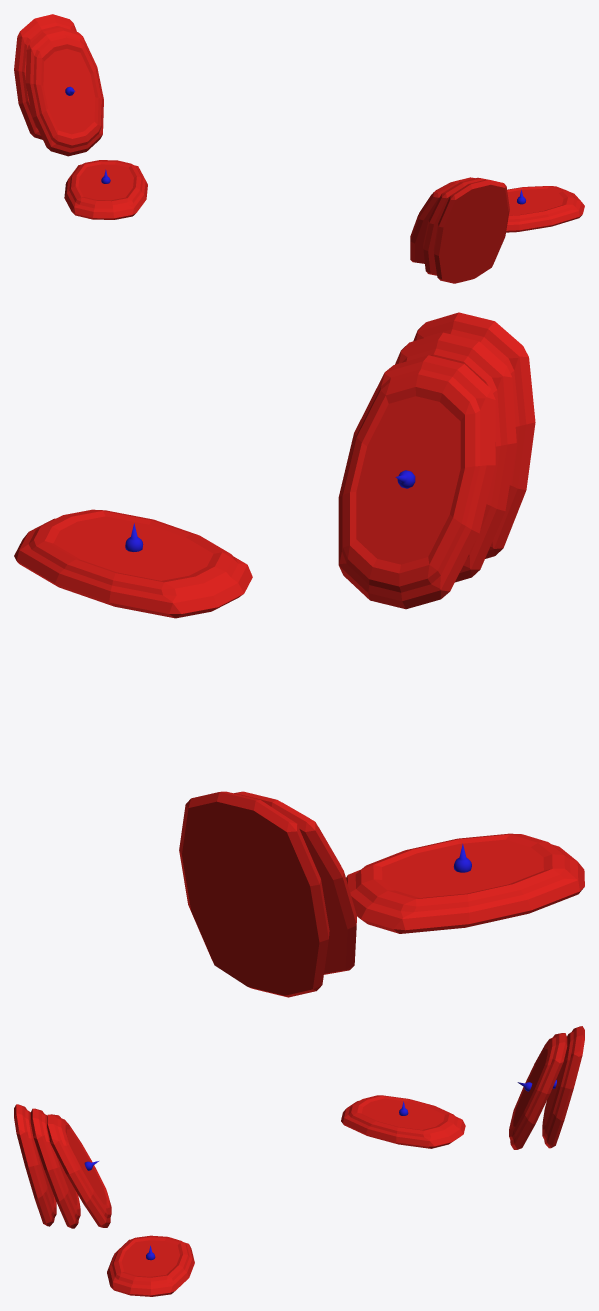
Rendered from Structure_Tower_Knight_Human_04_01_Shields.fbx.
3 views of the same model, one above another, from view 1: azimuth 30°, elevation 25°; view 2: azimuth 150°, elevation 25°; view 3: azimuth 270°, elevation 25° (orthographic). The views are drawn at different scales.
Visible parts, largest first — view 1: Structure_Tower_Knight_Human_04_01_Shield.001, Structure_Tower_Knight_Human_04_01_Shield, Structure_Tower_Knight_Human_04_01_Shield.003, Structure_Tower_Knight_Human_04_01_Shield.004, Structure_Tower_Knight_Human_04_01_Shield.002, Structure_Tower_Knight_Human_04_01_Shield.005, Structure_Tower_Knight_Human_04_01_Shield.006; view 2: Structure_Tower_Knight_Human_04_01_Shield.005, Structure_Tower_Knight_Human_04_01_Shield.002, Structure_Tower_Knight_Human_04_01_Shield.003, Structure_Tower_Knight_Human_04_01_Shield.004, Structure_Tower_Knight_Human_04_01_Shield.006, Structure_Tower_Knight_Human_04_01_Shield, Structure_Tower_Knight_Human_04_01_Shield.001; view 3: Structure_Tower_Knight_Human_04_01_Shield.003, Structure_Tower_Knight_Human_04_01_Shield.004, Structure_Tower_Knight_Human_04_01_Shield.005, Structure_Tower_Knight_Human_04_01_Shield.001, Structure_Tower_Knight_Human_04_01_Shield.002, Structure_Tower_Knight_Human_04_01_Shield.006, Structure_Tower_Knight_Human_04_01_Shield.
Boxes of the visible parts, x1,y1,x2,y2 form: Structure_Tower_Knight_Human_04_01_Shield.001: (25, 27, 103, 156); Structure_Tower_Knight_Human_04_01_Shield: (433, 179, 509, 283); Structure_Tower_Knight_Human_04_01_Shield.003: (64, 160, 147, 219); Structure_Tower_Knight_Human_04_01_Shield.004: (506, 186, 584, 232); Structure_Tower_Knight_Human_04_01_Shield.002: (14, 14, 76, 139); Structure_Tower_Knight_Human_04_01_Shield.005: (410, 177, 475, 263); Structure_Tower_Knight_Human_04_01_Shield.006: (423, 177, 487, 275); Structure_Tower_Knight_Human_04_01_Shield.005: (338, 355, 495, 609); Structure_Tower_Knight_Human_04_01_Shield.002: (179, 791, 329, 997); Structure_Tower_Knight_Human_04_01_Shield.003: (346, 833, 584, 933); Structure_Tower_Knight_Human_04_01_Shield.004: (14, 509, 252, 618); Structure_Tower_Knight_Human_04_01_Shield.006: (395, 332, 516, 582); Structure_Tower_Knight_Human_04_01_Shield: (413, 312, 535, 558); Structure_Tower_Knight_Human_04_01_Shield.001: (234, 791, 356, 974); Structure_Tower_Knight_Human_04_01_Shield.003: (341, 1095, 465, 1148); Structure_Tower_Knight_Human_04_01_Shield.004: (107, 1235, 194, 1296); Structure_Tower_Knight_Human_04_01_Shield.005: (47, 1114, 111, 1227); Structure_Tower_Knight_Human_04_01_Shield.001: (509, 1033, 567, 1149); Structure_Tower_Knight_Human_04_01_Shield.002: (542, 1026, 584, 1148); Structure_Tower_Knight_Human_04_01_Shield.006: (30, 1108, 80, 1228); Structure_Tower_Knight_Human_04_01_Shield: (14, 1104, 56, 1226).
Size of the model in its own units: 360 by 99.19 by 445.
